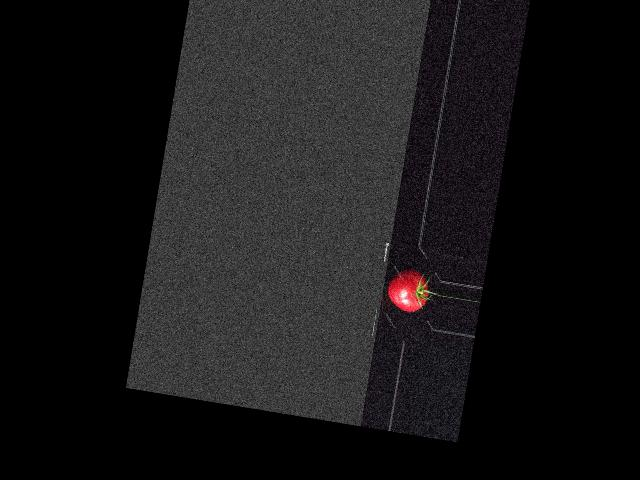tomato: (384, 266, 431, 314)
